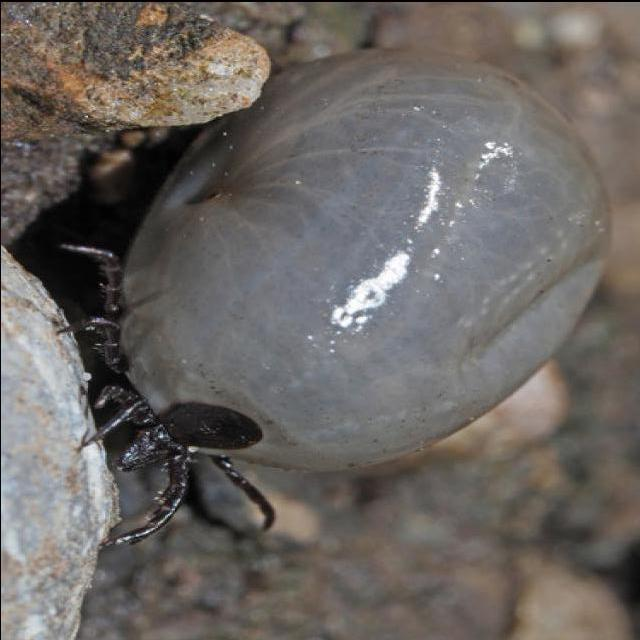Ixodes Ricinus-F-Fed: (34, 47, 609, 545)
